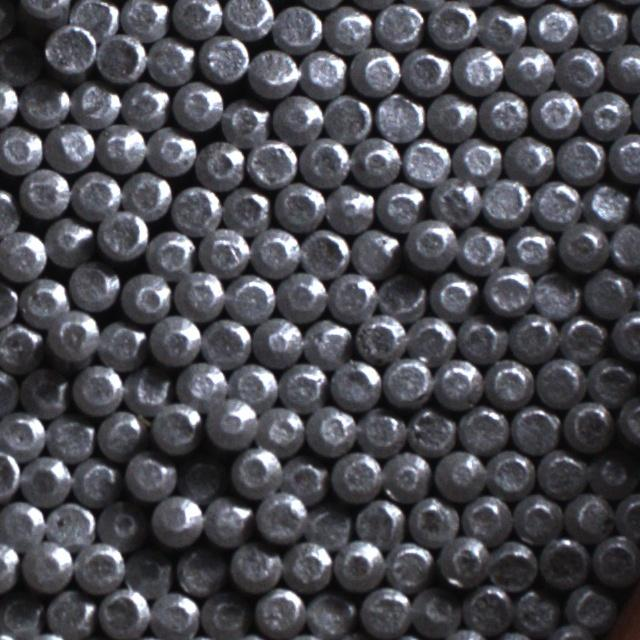tool: (43, 21, 98, 78), (204, 395, 259, 450), (435, 532, 489, 586), (150, 493, 203, 548), (402, 219, 457, 272), (45, 309, 96, 366), (149, 400, 201, 454), (96, 586, 148, 640), (406, 494, 459, 546), (148, 314, 201, 366), (329, 451, 382, 503), (254, 490, 306, 543), (429, 173, 481, 225), (123, 451, 175, 503), (199, 588, 251, 640), (230, 446, 282, 498), (282, 538, 334, 590), (537, 537, 589, 589), (97, 207, 148, 260), (73, 541, 124, 594), (168, 184, 222, 234), (20, 454, 71, 506), (350, 135, 401, 187), (228, 540, 280, 591), (18, 77, 70, 128), (253, 585, 304, 637), (305, 404, 356, 456), (71, 362, 122, 414), (409, 585, 460, 637), (562, 398, 612, 451), (248, 45, 299, 96), (44, 121, 95, 172), (434, 448, 485, 499), (333, 539, 384, 590), (124, 548, 175, 599), (582, 268, 634, 318), (299, 135, 349, 187), (557, 220, 609, 270), (44, 588, 96, 638), (20, 540, 70, 592), (463, 582, 513, 634), (323, 182, 373, 233), (328, 358, 379, 408), (199, 31, 249, 82), (120, 271, 171, 321), (358, 587, 409, 637), (355, 312, 406, 362), (198, 225, 248, 276), (175, 546, 226, 596), (68, 262, 119, 312), (201, 318, 252, 368), (349, 226, 399, 277), (18, 276, 68, 327), (381, 450, 431, 501), (512, 491, 562, 542), (406, 312, 456, 363), (19, 366, 68, 418), (95, 32, 144, 84), (591, 534, 640, 586), (272, 180, 322, 230), (375, 180, 425, 230), (95, 408, 145, 458), (170, 80, 220, 130), (70, 168, 120, 218), (271, 93, 321, 143), (400, 46, 450, 96), (45, 498, 95, 548), (299, 228, 349, 278), (476, 2, 526, 52), (121, 168, 171, 218), (250, 226, 300, 276), (254, 316, 304, 366), (145, 35, 195, 85), (576, 1, 626, 51), (175, 270, 225, 320), (95, 318, 145, 368), (246, 137, 296, 187), (536, 448, 586, 498), (406, 406, 456, 456), (458, 404, 508, 454), (149, 590, 199, 640), (177, 452, 227, 502), (425, 93, 476, 142), (354, 497, 405, 546), (383, 355, 432, 406), (146, 227, 195, 278), (203, 497, 252, 548), (227, 359, 276, 410), (123, 362, 174, 411), (503, 133, 553, 182), (532, 178, 581, 228), (483, 266, 532, 316), (456, 312, 506, 361), (384, 540, 433, 590), (221, 183, 270, 233), (433, 358, 482, 408), (509, 312, 559, 361), (356, 406, 406, 455), (456, 225, 506, 274), (531, 272, 581, 321), (379, 271, 429, 320), (195, 138, 244, 188), (146, 126, 195, 176), (278, 455, 328, 504), (305, 589, 356, 637), (488, 539, 536, 590), (323, 4, 372, 53), (374, 0, 423, 49), (532, 88, 581, 137), (303, 318, 352, 367), (505, 45, 554, 94), (96, 122, 145, 171), (454, 44, 503, 93), (326, 272, 375, 321), (486, 447, 535, 496), (350, 47, 399, 96), (277, 271, 326, 320), (559, 313, 608, 362), (44, 215, 93, 264), (463, 491, 512, 540), (565, 490, 614, 539), (565, 582, 614, 631), (120, 78, 168, 128), (556, 134, 606, 182), (323, 94, 373, 142), (529, 1, 577, 51), (536, 356, 584, 406), (481, 176, 529, 226), (426, 0, 476, 48), (586, 354, 634, 404), (96, 498, 144, 548), (177, 359, 227, 407), (375, 91, 423, 140), (582, 88, 631, 136), (479, 90, 528, 138), (556, 45, 604, 94), (71, 80, 120, 128), (226, 273, 274, 322), (510, 404, 558, 453), (485, 358, 533, 407), (278, 361, 326, 410), (71, 456, 119, 505), (18, 167, 66, 216), (220, 96, 268, 145), (454, 134, 502, 182), (402, 136, 450, 184), (47, 412, 95, 460), (273, 2, 321, 50), (511, 586, 559, 634), (587, 450, 635, 498), (300, 48, 347, 97), (429, 271, 478, 318), (259, 403, 305, 453), (584, 179, 632, 226), (507, 225, 555, 272), (0, 408, 45, 458), (0, 124, 43, 176), (306, 502, 353, 549), (0, 230, 44, 280), (0, 34, 42, 86), (0, 592, 45, 640), (0, 499, 44, 548), (0, 320, 41, 371), (69, 0, 119, 41), (170, 0, 220, 39), (222, 0, 273, 38), (120, 0, 168, 40), (607, 131, 640, 181), (606, 43, 640, 91), (609, 222, 640, 272), (611, 311, 640, 360), (615, 396, 640, 448), (614, 491, 640, 541)
